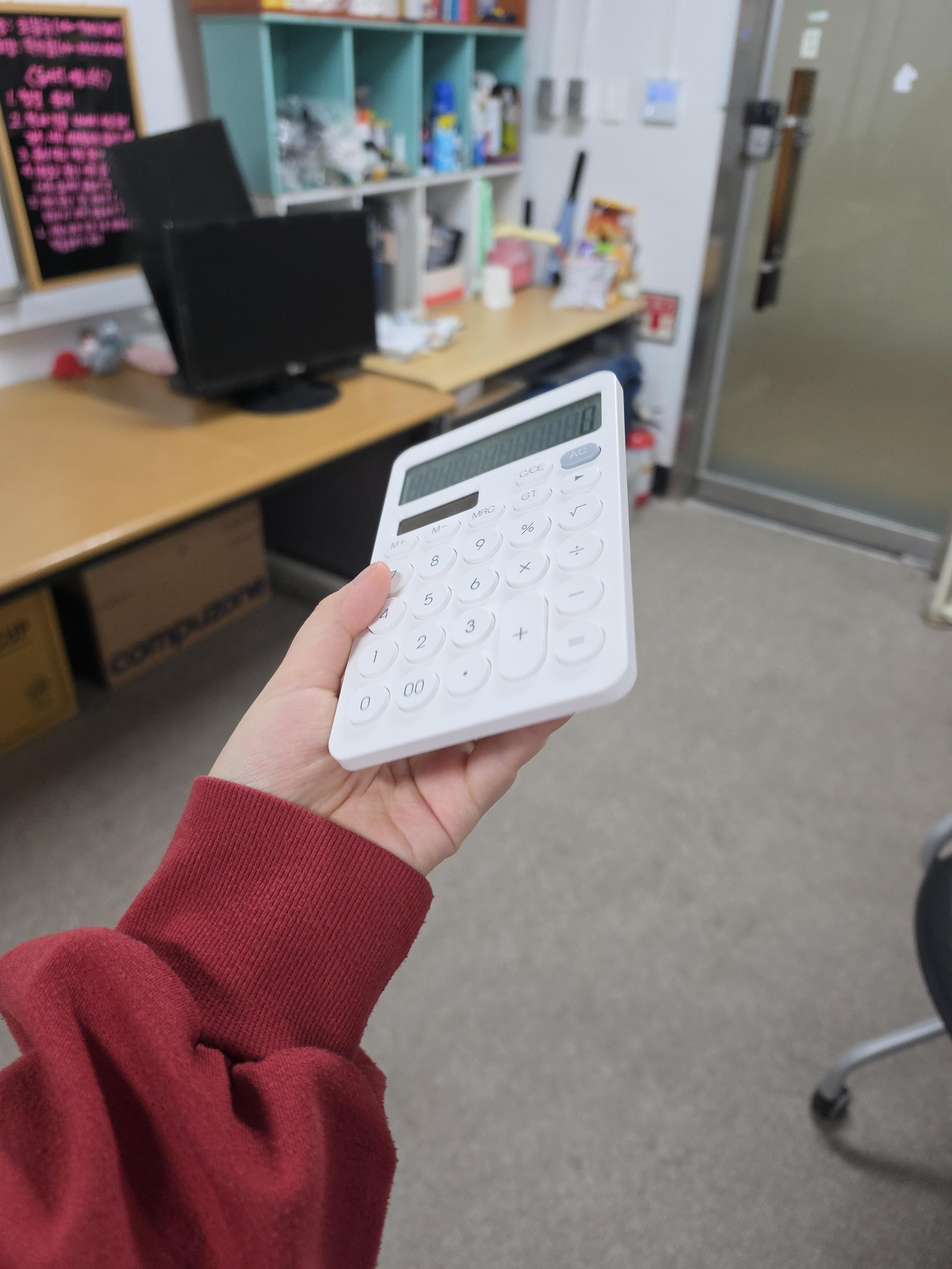calculator: (328, 369, 638, 772)
